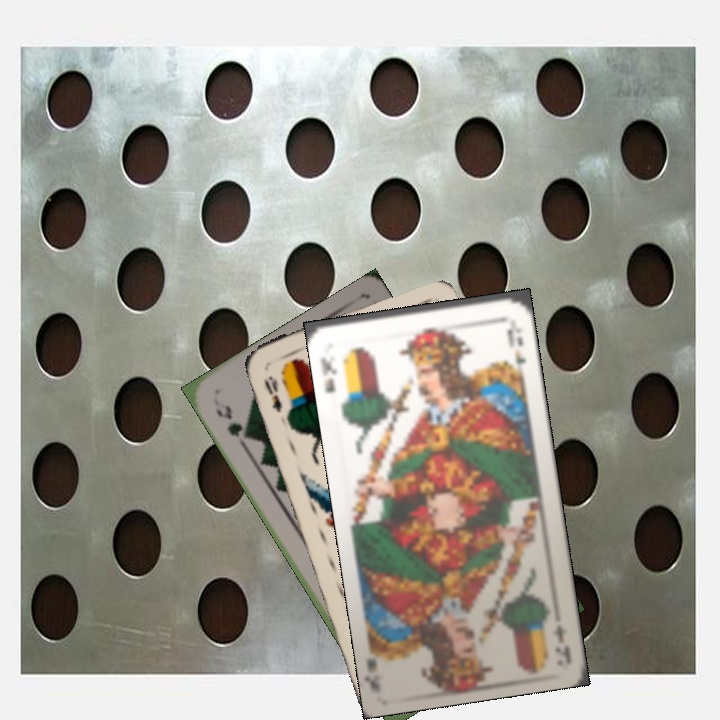EK: (549, 621, 574, 661), (317, 353, 340, 395)
EO: (260, 372, 285, 415)
G9: (212, 401, 252, 448)
